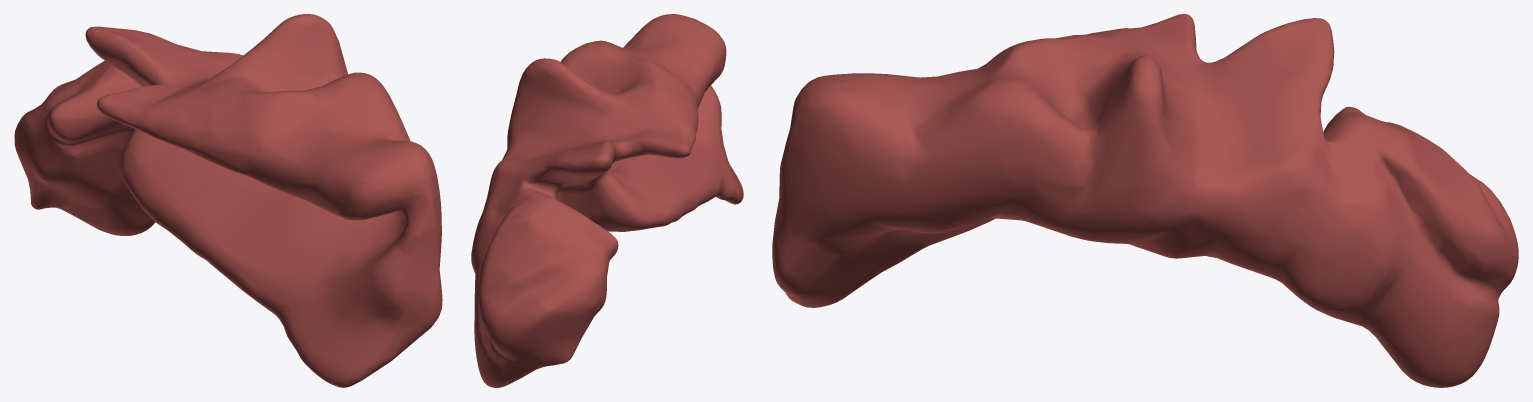
Rendered from FMA72805.glb.
3 renders of one model, left to right at view 1: azimuth 30°, elevation 25°; view 2: azimuth 150°, elevation 25°; view 3: azimuth 270°, elevation 25°, orthographic. The views are drawn at different scales.
Parts seen in each view (by area): view 1: FMA72805; view 2: FMA72805; view 3: FMA72805.
Boxes of the visible parts, x1,y1,x2,y2 form: FMA72805: (14,14,442,387); FMA72805: (471,14,743,387); FMA72805: (772,14,1518,387).
Bounding box in the file's own units: 0.0304 × 0.037 × 0.0699.
